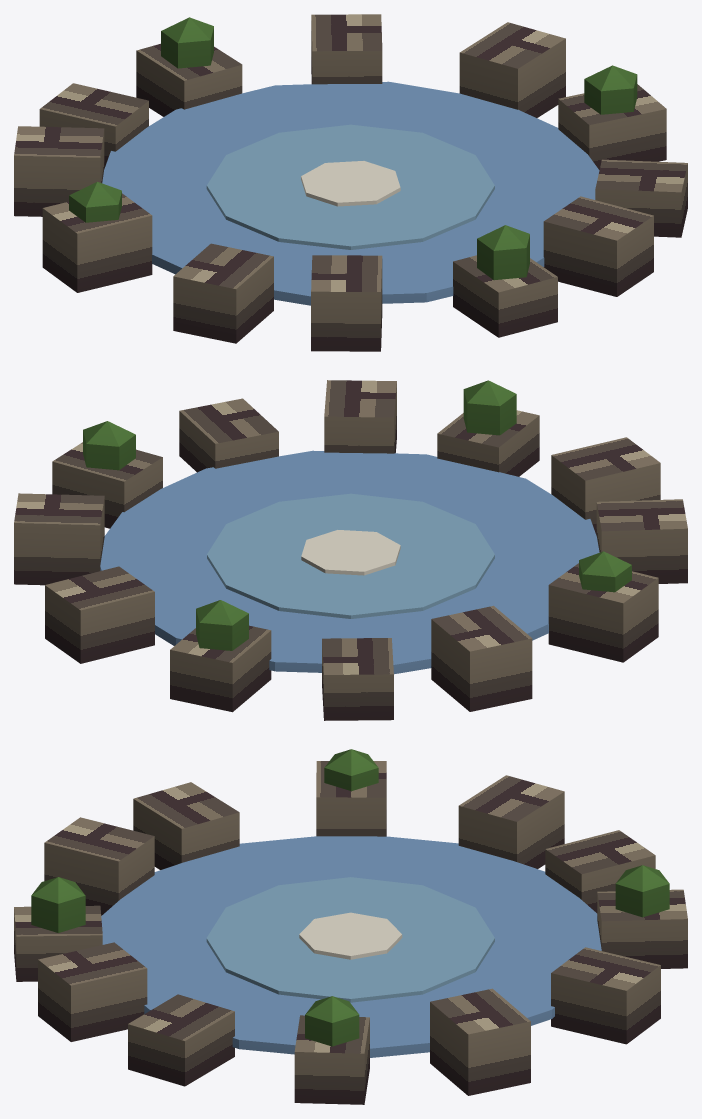
Rendered from spring_basin.glb.
3 views of the same model, one above another, from view 1: azimuth 30°, elevation 25°; view 2: azimuth 150°, elevation 25°; view 3: azimuth 270°, elevation 25° (orthographic).
Visible parts, largest first — view 1: spring_basin; view 2: spring_basin; view 3: spring_basin.
Part boxes in pixels (box(x1,y1,x2,y2)): spring_basin: box(14, 14, 687, 351); spring_basin: box(14, 380, 687, 720); spring_basin: box(14, 749, 687, 1104).
Size of the model in its own units: 3.27 by 0.48 by 3.27.
Materials: 3 (1 with a texture image).
